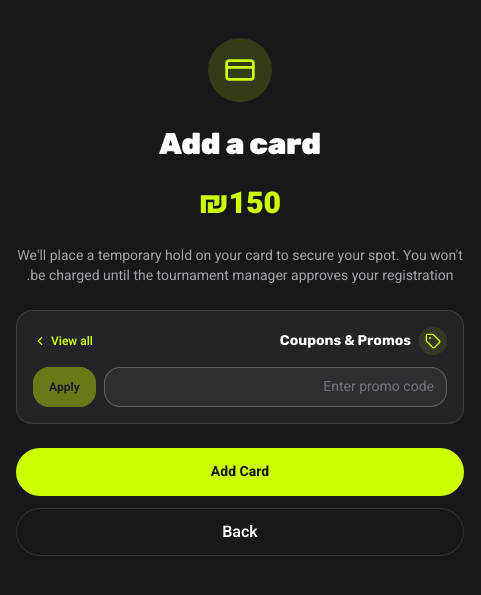
PaymentMethodPage › shows a checkout error when initiate fails
The width and height of the screenshot is (481, 595).
Step 1. Click the button "Add Card" → (240, 472), box [16,448,464,496]
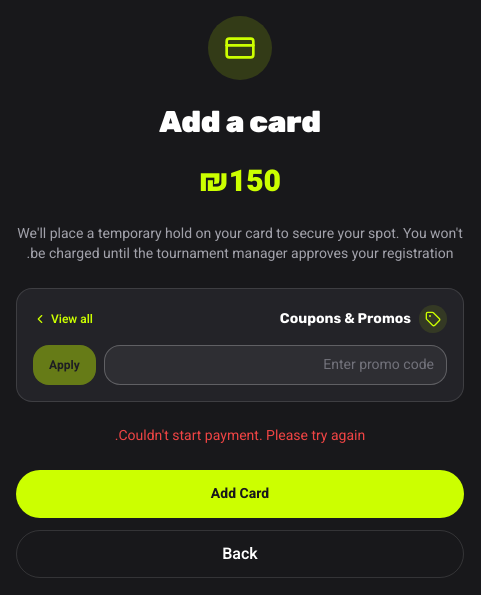
Check: the text "Couldn't start payment. Please try again." is shown, box [115,425,365,446]
